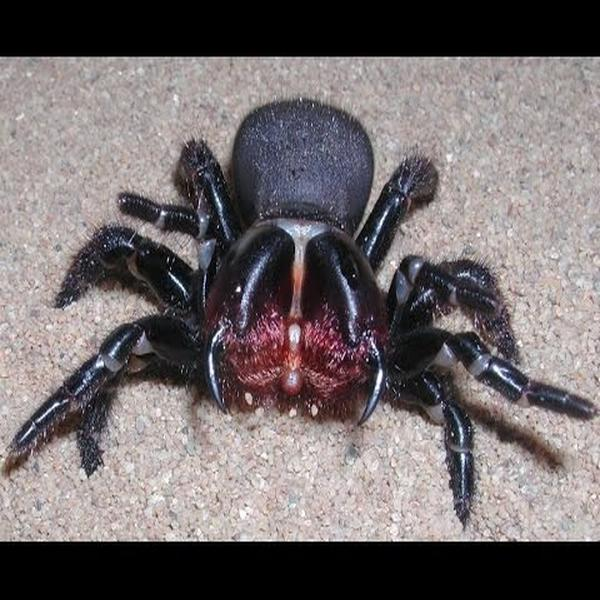Sydney_Funnel_Web_Spider: (9, 97, 593, 518)
